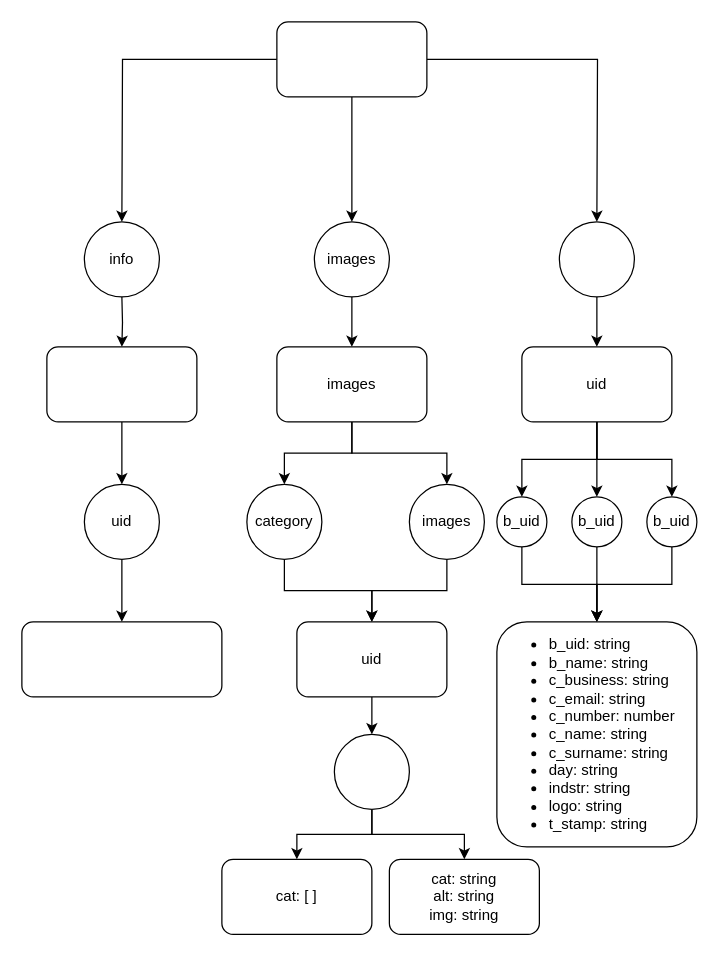
Some shapes in this 719 by 956 pixel diagram are drawn without their labels. Here are the shapes that lost their labels. From the top down, the centre of each, then its label:
At (x=351, y=59): "user".
At (x=596, y=259): "apps".
At (x=121, y=384): "general".
At (x=121, y=659): "disp_name: string email: string uid: string".
At (x=371, y=771): "{doc id}".
